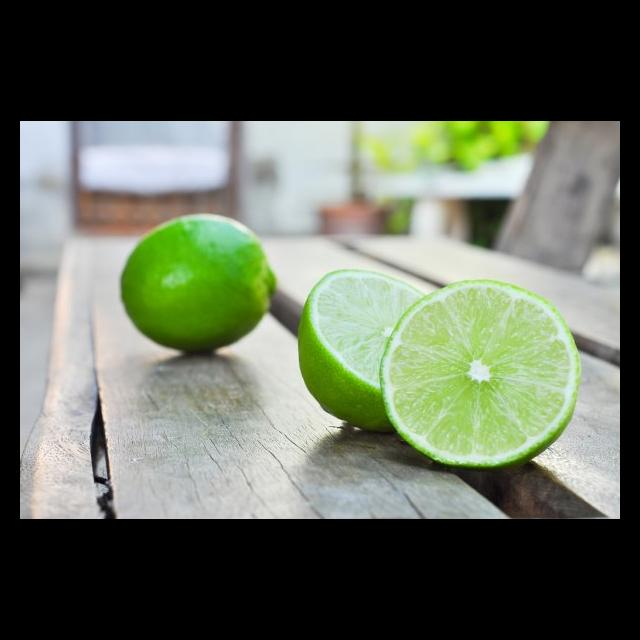lime: (114, 205, 286, 358)
